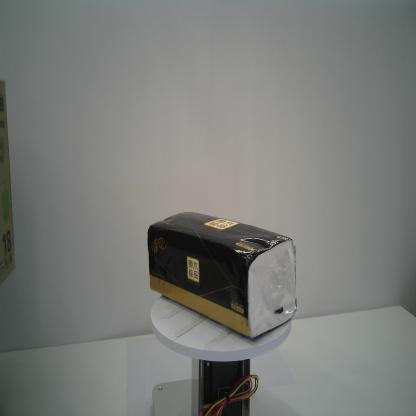Tissue: (146, 210, 298, 340)
